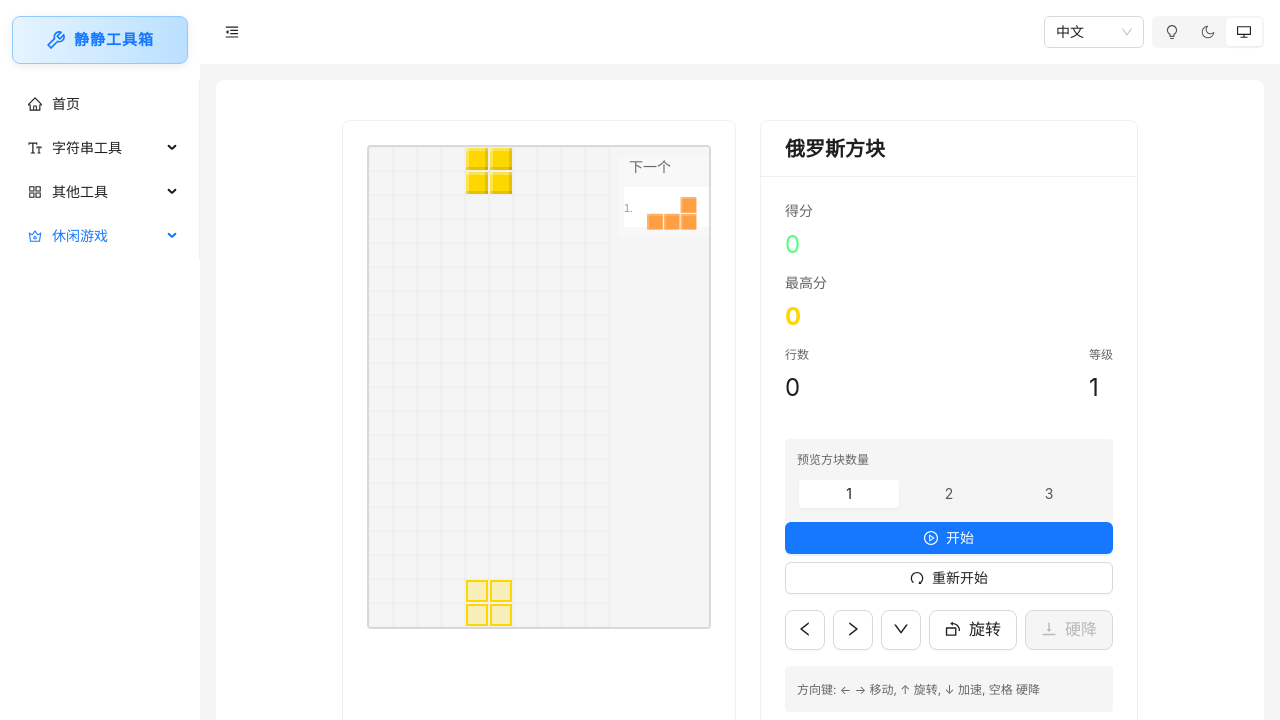
Scenario: Tetris Game › should start game when clicked
The width and height of the screenshot is (1280, 720).
Step 1. Click the button "开始" → (949, 538), box [785, 522, 1113, 554]
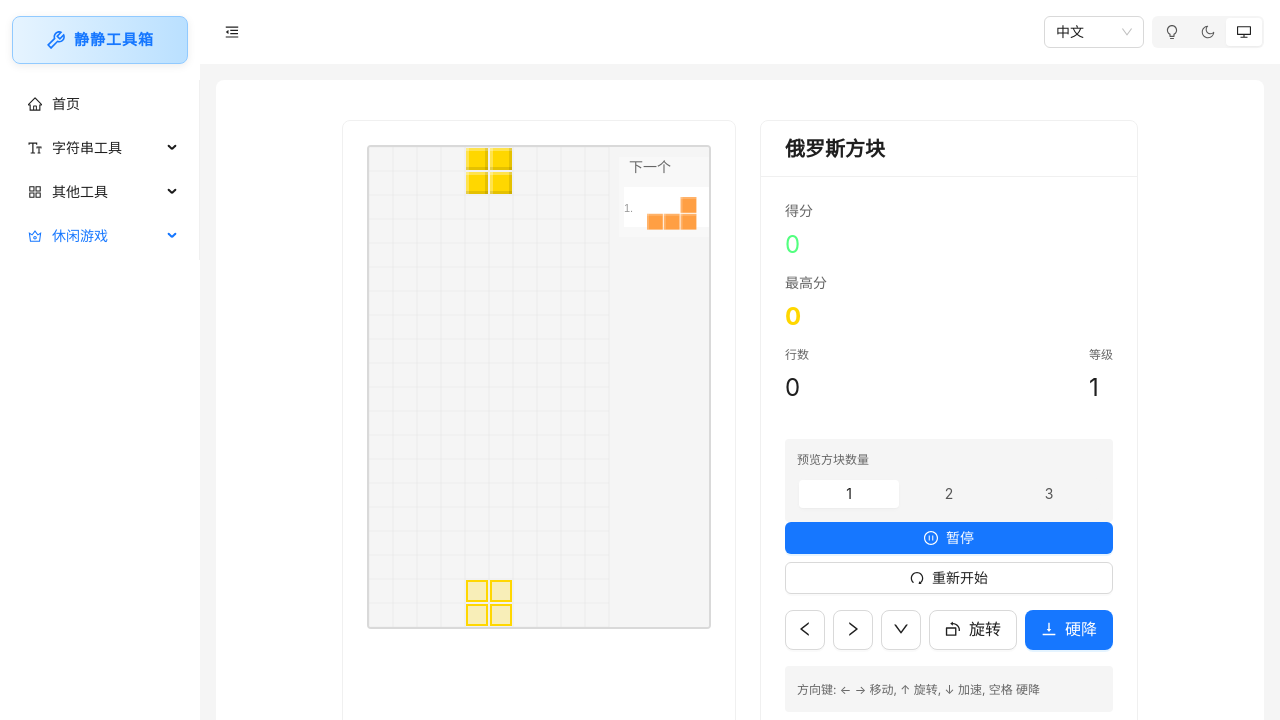
Now the button "暂停" is shown, box [785, 522, 1113, 554]
